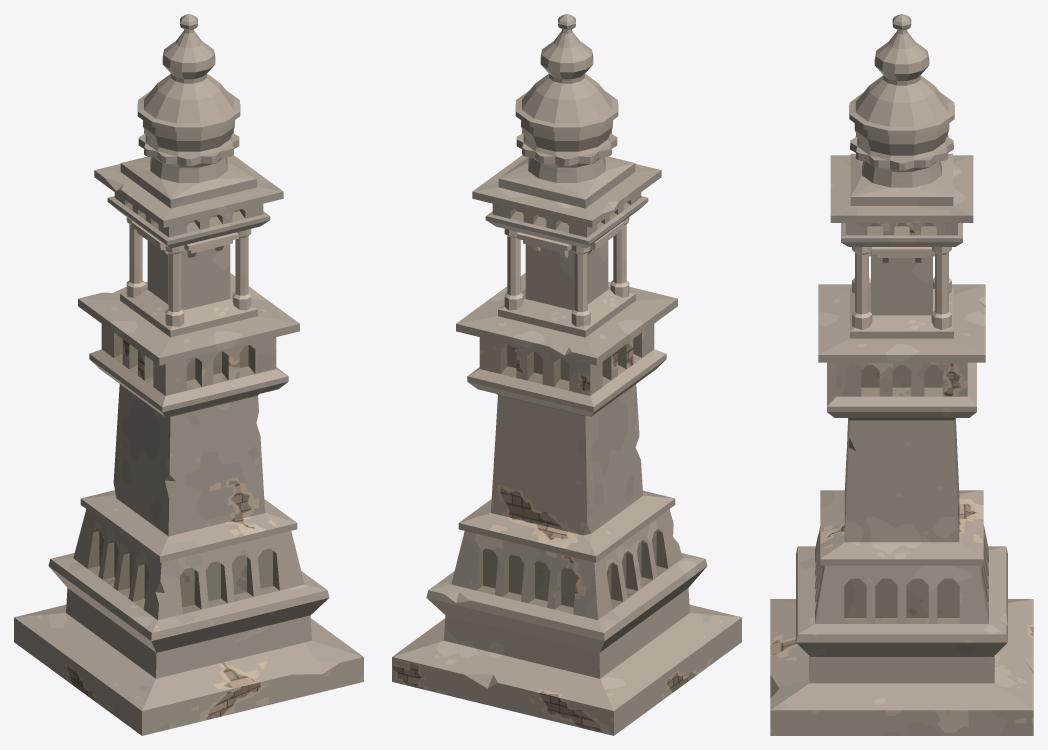
The model's file is SM_Bld_Clock_Tower_01.fbx.
3 views of the same model, side by side, from view 1: azimuth 30°, elevation 25°; view 2: azimuth 150°, elevation 25°; view 3: azimuth 270°, elevation 25° (orthographic). The views are drawn at different scales.
Parts seen in each view (by area): view 1: SM_Bld_Clock_Tower_01; view 2: SM_Bld_Clock_Tower_01; view 3: SM_Bld_Clock_Tower_01.
Boxes of the visible parts, x1=… form: SM_Bld_Clock_Tower_01: x1=14, y1=14, x2=363, y2=735; SM_Bld_Clock_Tower_01: x1=392, y1=14, x2=741, y2=735; SM_Bld_Clock_Tower_01: x1=770, y1=14, x2=1033, y2=735.
Size of the model in its own units: 427 by 1191 by 427.
